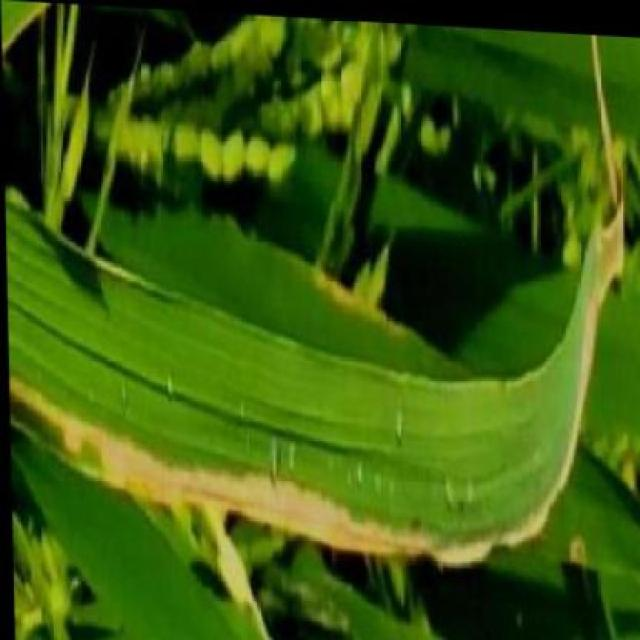Brown_Spot: (48, 313, 550, 549)
